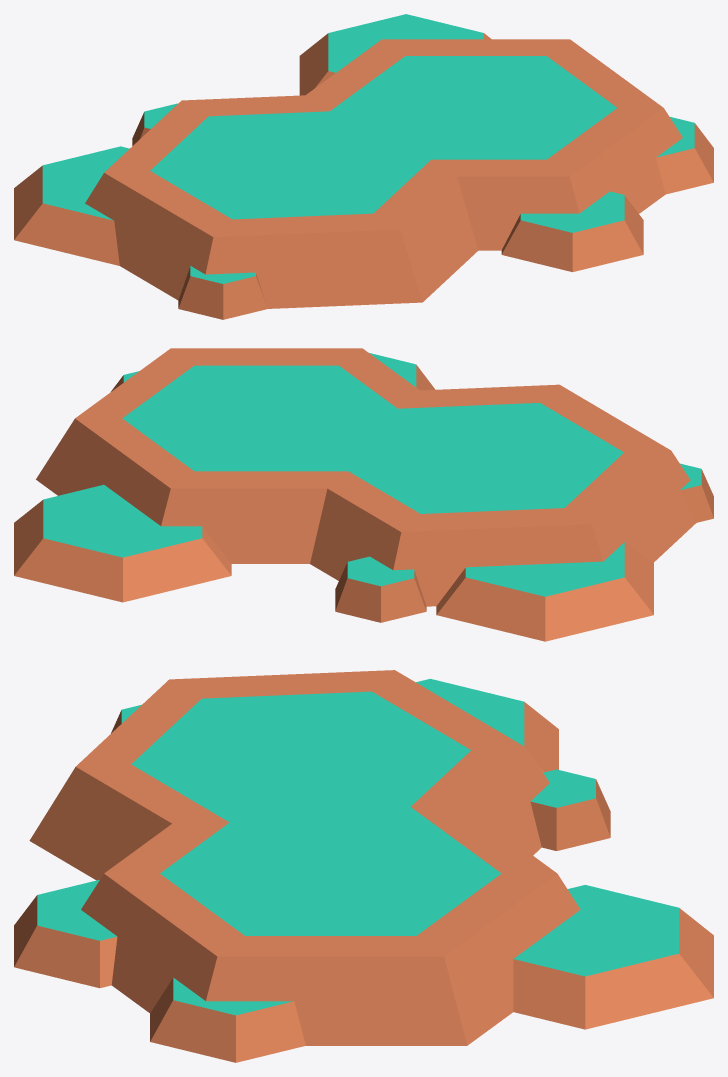
The model's file is platform_grass.fbx.
The picture shows the model from 3 angles, top to bottom: view 1: azimuth 30°, elevation 25°; view 2: azimuth 150°, elevation 25°; view 3: azimuth 270°, elevation 25°; orthographic projection. The views are drawn at different scales.
Parts seen in each view (by area): view 1: platform_grass; view 2: platform_grass; view 3: platform_grass.
Boxes of the visible parts, x1=… form: platform_grass: x1=14, y1=14, x2=713, y2=319; platform_grass: x1=14, y1=348, x2=713, y2=641; platform_grass: x1=14, y1=670, x2=713, y2=1062.
Size of the model in its own units: 8.93 by 0.825 by 7.24.
